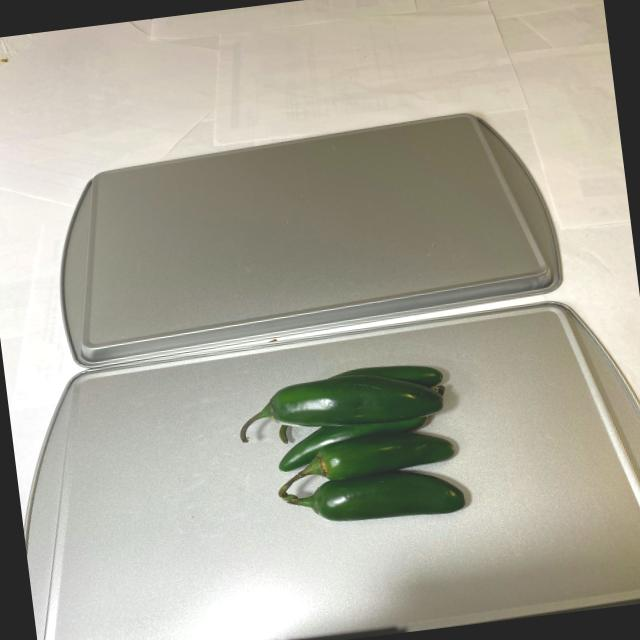chilli: (224, 346, 489, 554)
